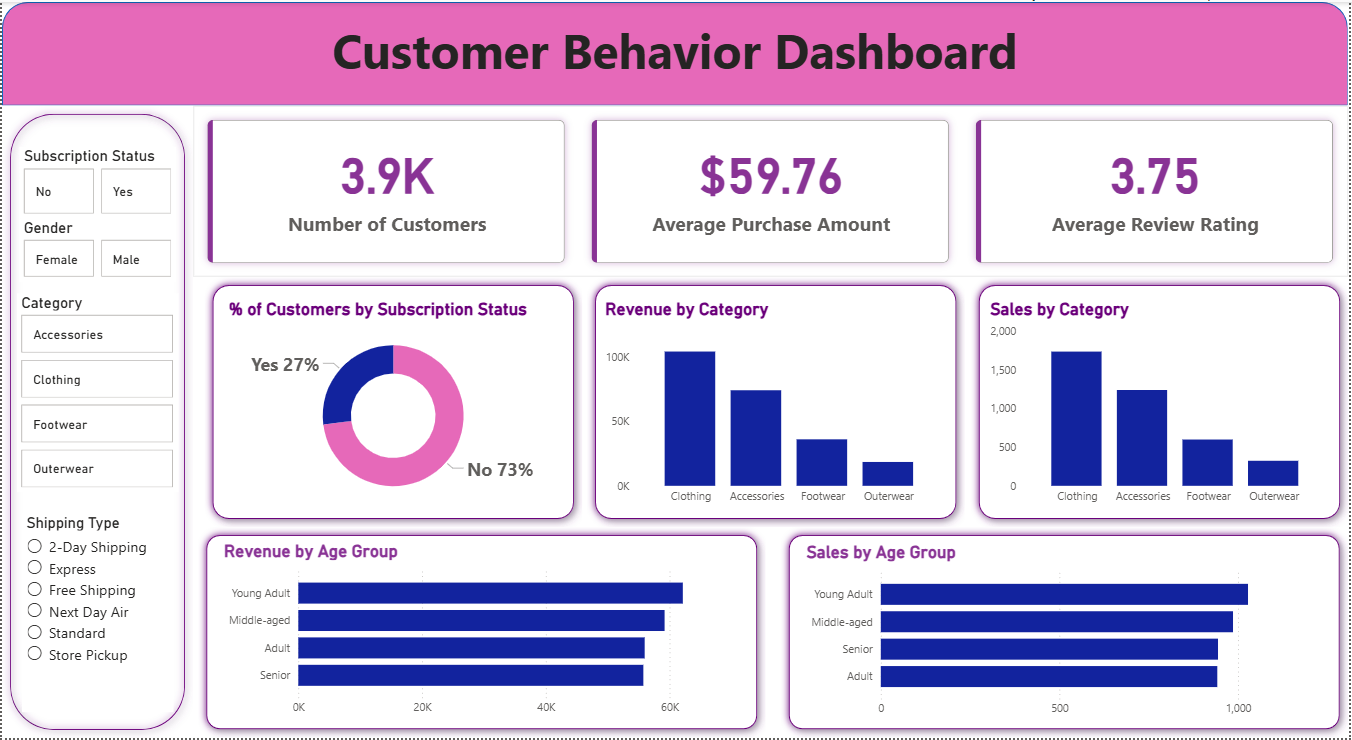

What the dashboard file says about the page in this screenshot:
{"tool":"powerbi","page":{"name":"Page 1","canvas":[1500,820],"ordinal":0},"visuals":[{"type":"cardVisual","fields":{"Data":["public customer.Number of Customers","public customer.Average Purchase Amount","public customer.Average Review Rating"]},"box":[212.9,115.3,1286.5,191.6],"z":2000},{"type":"shape","box":[218.3,585.6,631.7,234.2],"z":2500,"group":"g1"},{"type":"shape","box":[0,0,1499.4,115.3],"z":3000},{"type":"textbox","box":[0,12.4,1499.4,102.9],"z":4000},{"type":"shape","box":[225.4,307,420.5,278.6],"z":5000},{"type":"donutChart","title":"% of Customers by Subscription Status","fields":{"Category":["public customer.subscription_status"],"Y":["CountNonNull(public customer.customer_id)"]},"box":[248.4,331.8,376.2,237.8],"z":6000},{"type":"shape","box":[1078.9,307,420.5,278.6],"z":7000},{"type":"shape","box":[652.1,307,420.5,278.6],"z":8000},{"type":"clusteredColumnChart","title":"Revenue by Category","fields":{"Y":["Sum(public customer.purchase_amount)"],"Category":["public customer.category"]},"box":[667.2,331.8,385.1,237.8],"z":9000},{"type":"clusteredColumnChart","title":"Sales by Category","fields":{"Y":["CountNonNull(public customer.customer_id)"],"Category":["public customer.category"]},"box":[1096.6,331.8,385.1,237.8],"z":10000},{"type":"shape","box":[0,115.3,212.9,704.5],"z":11000},{"type":"advancedSlicerVisual","fields":{"Values":["public customer.subscription_status"]},"box":[19.5,161.5,174.1,79.4],"z":12000},{"type":"advancedSlicerVisual","fields":{"Values":["public customer.gender"]},"box":[19.5,240.9,174.1,71],"z":13000},{"type":"advancedSlicerVisual","fields":{"Values":["public customer.category"]},"box":[16.7,324.5,179.7,221.4],"z":14000},{"type":"listSlicer","fields":{"Values":["public customer.shipping_type"]},"box":[22.3,569.6,168.5,221.4],"z":15000},{"type":"shape","box":[867.7,585.6,631.7,234.2],"z":16000},{"type":"clusteredBarChart","title":"Sales by Age Group","fields":{"Y":["CountNonNull(public customer.customer_id)"],"Category":["public customer.age_group"]},"box":[890.8,601.5,585.6,204.1],"z":17000},{"type":"clusteredBarChart","title":"Revenue by Age Group","fields":{"Y":["Sum(public customer.purchase_amount)"],"Category":["public customer.age_group"]},"box":[241.4,601.6,585.6,204.1],"z":17500,"group":"g1"},{"type":"group","id":"g1","title":"Group 1","box":[218.3,585.6,631.7,234.2],"z":17501}]}

Visuals, with their boxes in screenshot pixels (x1, y1, x2, y2), scaled from the page's 1500x820 canvas onto the 1352x740 screenshot:
cardVisual - public customer.Number of Customers x public customer.Average Purchase Amount: pyautogui.locateOnScreen(192, 104, 1351, 277)
shape: pyautogui.locateOnScreen(197, 528, 766, 739)
shape: pyautogui.locateOnScreen(0, 0, 1351, 104)
textbox: pyautogui.locateOnScreen(0, 11, 1351, 104)
shape: pyautogui.locateOnScreen(203, 277, 582, 528)
"% of Customers by Subscription Status" donutChart: pyautogui.locateOnScreen(224, 299, 563, 514)
shape: pyautogui.locateOnScreen(972, 277, 1351, 528)
shape: pyautogui.locateOnScreen(588, 277, 967, 528)
"Revenue by Category" clusteredColumnChart: pyautogui.locateOnScreen(601, 299, 948, 514)
"Sales by Category" clusteredColumnChart: pyautogui.locateOnScreen(988, 299, 1336, 514)
shape: pyautogui.locateOnScreen(0, 104, 192, 739)
advancedSlicerVisual - public customer.subscription_status: pyautogui.locateOnScreen(18, 146, 174, 217)
advancedSlicerVisual - public customer.gender: pyautogui.locateOnScreen(18, 217, 174, 281)
advancedSlicerVisual - public customer.category: pyautogui.locateOnScreen(15, 293, 177, 493)
listSlicer - public customer.shipping_type: pyautogui.locateOnScreen(20, 514, 172, 714)
shape: pyautogui.locateOnScreen(782, 528, 1351, 739)
"Sales by Age Group" clusteredBarChart: pyautogui.locateOnScreen(803, 543, 1331, 727)
"Revenue by Age Group" clusteredBarChart: pyautogui.locateOnScreen(218, 543, 745, 727)
"Group 1" group: pyautogui.locateOnScreen(197, 528, 766, 739)
